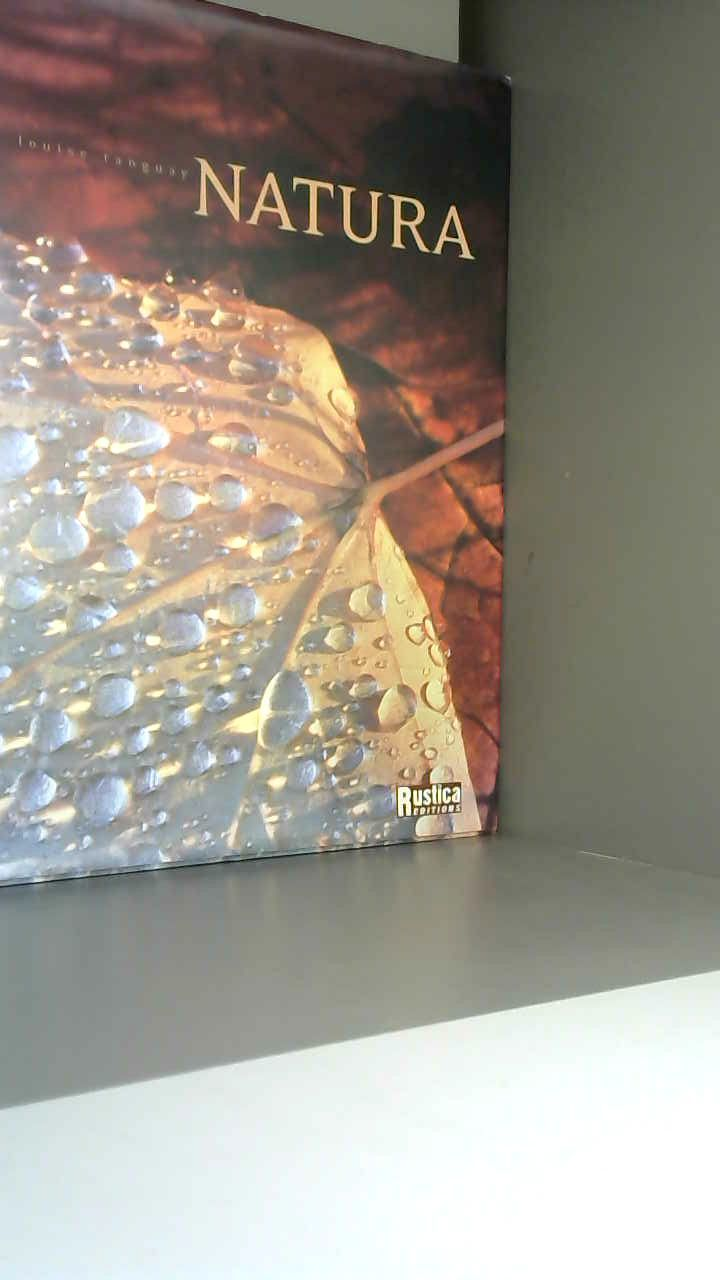book: (0, 0, 556, 910)
